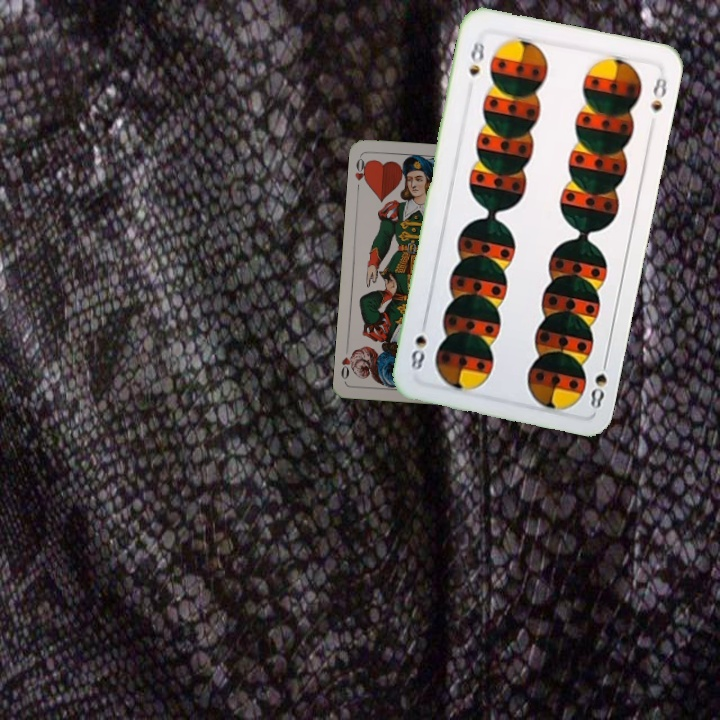HO: (350, 154, 371, 187)
S8: (586, 353, 611, 412), (465, 31, 487, 78)
